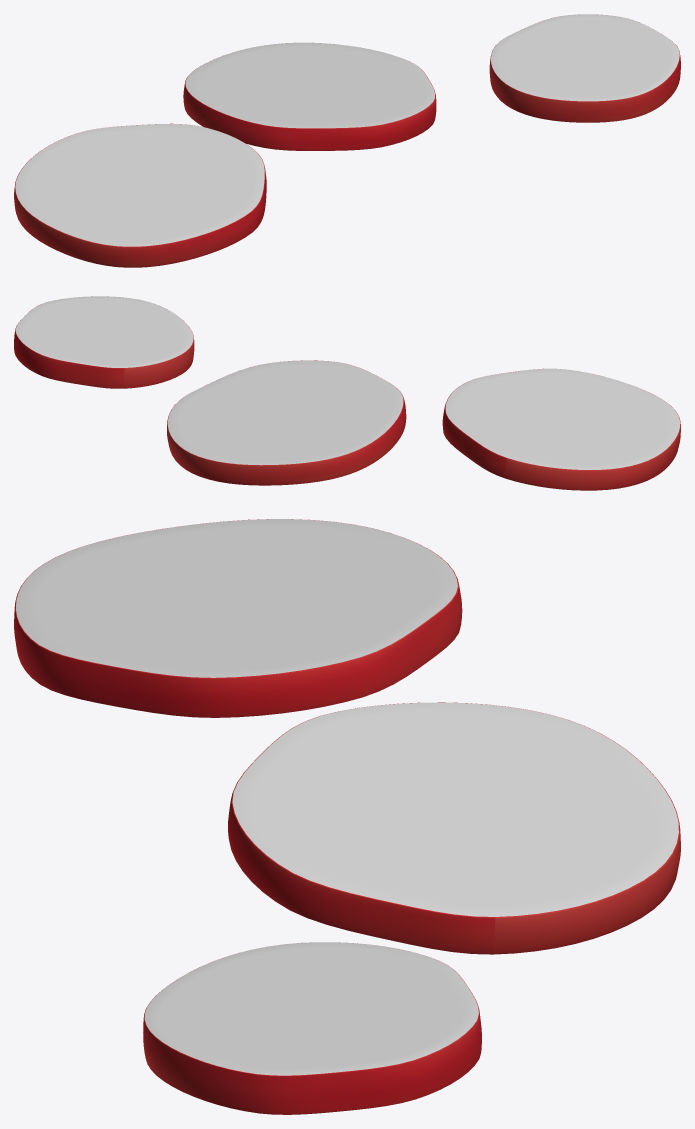
The model's file is Tomato.fbx.
3 renders of one model, top to bottom at view 1: azimuth 30°, elevation 25°; view 2: azimuth 150°, elevation 25°; view 3: azimuth 270°, elevation 25°, orthographic. The views are drawn at different scales.
Visible parts, largest first — view 1: Cylinder.005, Cylinder.006, Cylinder.004; view 2: Cylinder.006, Cylinder.005, Cylinder.004; view 3: Cylinder.006, Cylinder.005, Cylinder.004.
Boxes of the visible parts, box(x1,y1,x2,y2) form: Cylinder.005: box(14, 123, 266, 267); Cylinder.006: box(183, 42, 436, 150); Cylinder.004: box(489, 14, 680, 122); Cylinder.006: box(167, 360, 406, 485); Cylinder.005: box(442, 368, 680, 490); Cylinder.004: box(14, 296, 194, 388); Cylinder.006: box(228, 702, 680, 954); Cylinder.005: box(14, 519, 462, 717); Cylinder.004: box(143, 942, 481, 1114).
Size of the model in its own units: 358 by 24.9 by 178.
2 materials, 1 textured.
